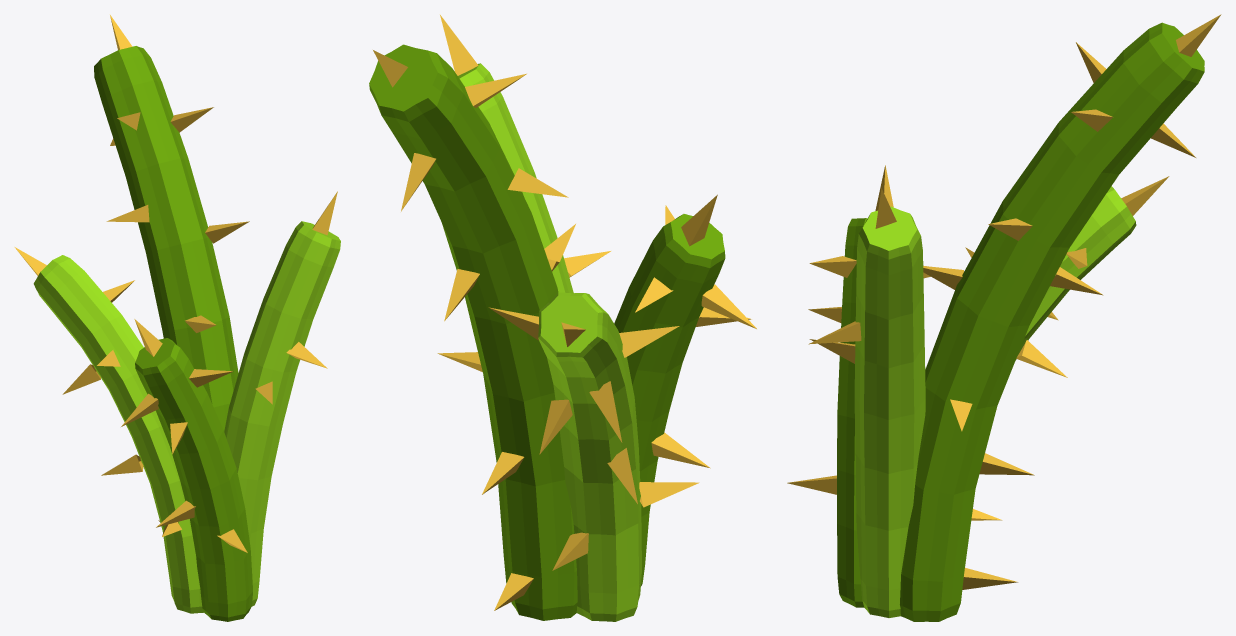
The model's file is Cactus_05_B.fbx.
The picture shows the model from 3 angles, left to right: view 1: azimuth 30°, elevation 25°; view 2: azimuth 150°, elevation 25°; view 3: azimuth 270°, elevation 25°; orthographic projection. The views are drawn at different scales.
Visible parts, largest first — view 1: Cactus_05_B; view 2: Cactus_05_B; view 3: Cactus_05_B.
Part boxes in pixels (x1=…): Cactus_05_B: x1=14, y1=15, x2=340, y2=621; Cactus_05_B: x1=369, y1=15, x2=756, y2=621; Cactus_05_B: x1=787, y1=14, x2=1221, y2=621.
Size of the model in its own units: 84.34 by 173 by 114.
